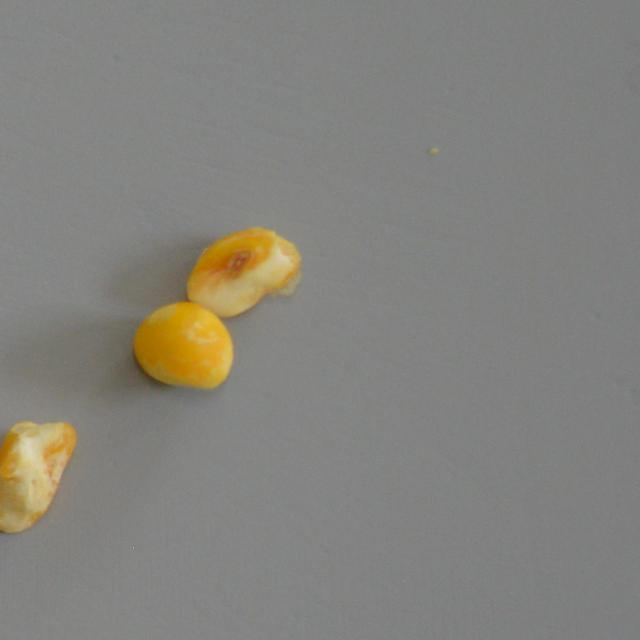dañado: (186, 221, 309, 320)
pelicula: (0, 410, 83, 540), (130, 298, 236, 393)
